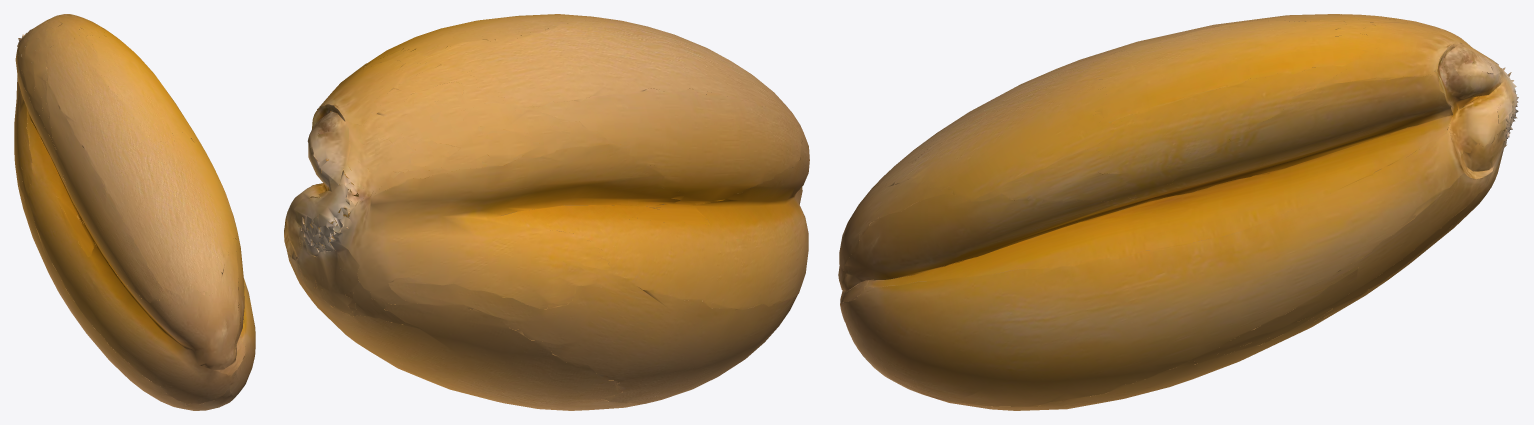
Rendered from WheatSeed-web.glb.
The picture shows the model from 3 angles, left to right: view 1: azimuth 30°, elevation 25°; view 2: azimuth 150°, elevation 25°; view 3: azimuth 270°, elevation 25°; orthographic projection. The views are drawn at different scales.
Parts seen in each view (by area): view 1: WheatSeed; view 2: WheatSeed; view 3: WheatSeed.
Part boxes in pixels (box(x1,y1,x2,y2)): WheatSeed: box(14, 14, 255, 410); WheatSeed: box(284, 14, 809, 410); WheatSeed: box(838, 14, 1518, 410).
Bounding box in the file's own units: 0.0765 × 0.1231 × 0.1931.
1 material, 1 textured.
